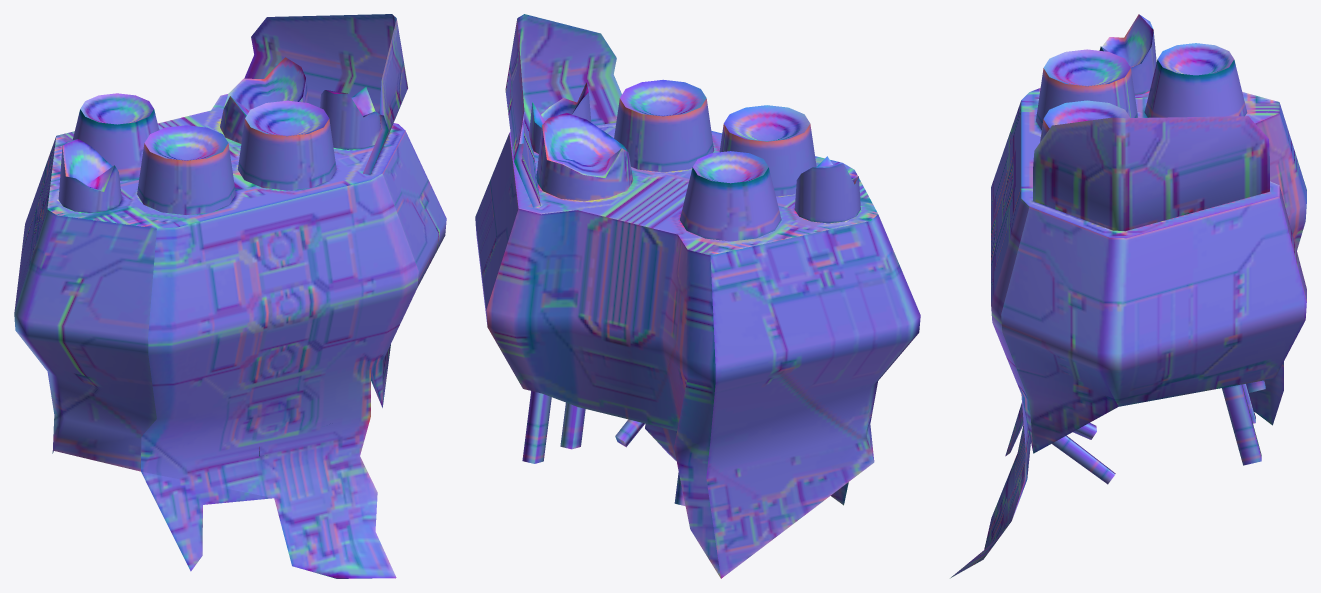
The model's file is ship_debris_03_part_03.glb.
3 renders of one model, left to right at view 1: azimuth 30°, elevation 25°; view 2: azimuth 150°, elevation 25°; view 3: azimuth 270°, elevation 25°, orthographic. The views are drawn at different scales.
Parts seen in each view (by area): view 1: ship_debris_03_part_03; view 2: ship_debris_03_part_03; view 3: ship_debris_03_part_03.
Boxes of the visible parts, box(x1,y1,x2,y2) form: ship_debris_03_part_03: box(14, 14, 446, 578); ship_debris_03_part_03: box(475, 14, 920, 578); ship_debris_03_part_03: box(950, 14, 1306, 578).
Size of the model in its own units: 4.28 by 4.68 by 3.01.
Materials: 1 (1 with a texture image).
